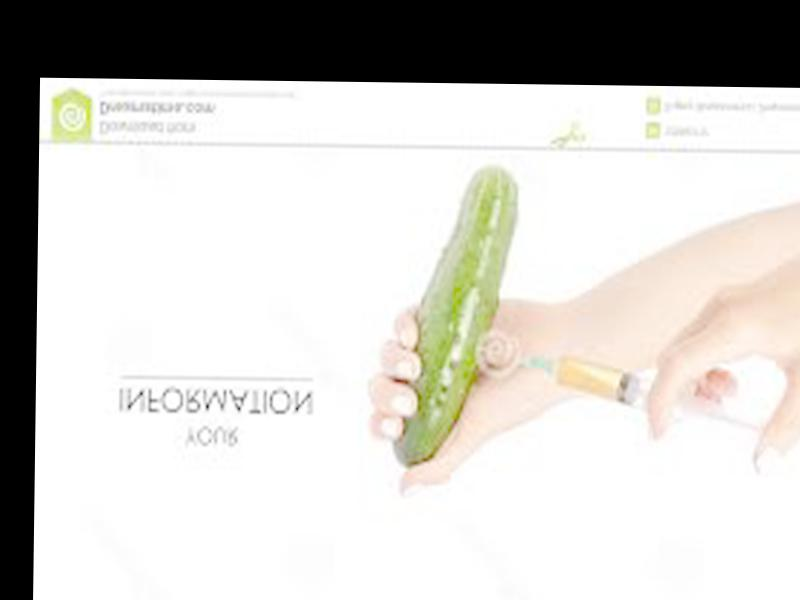Cucumber: (393, 164, 518, 469)
